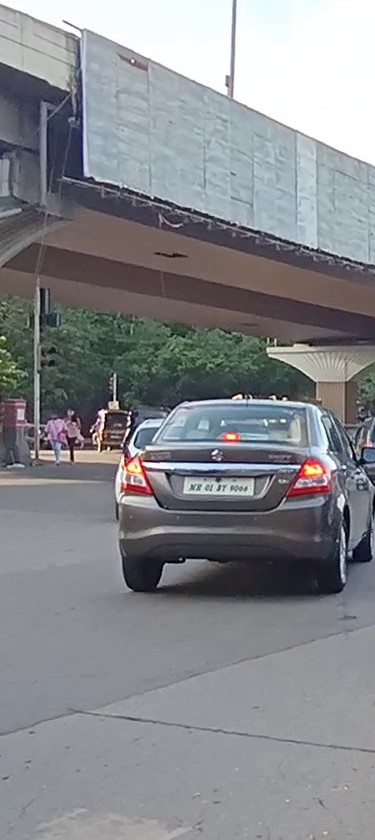MH01BT9066: (183, 476, 255, 496)
